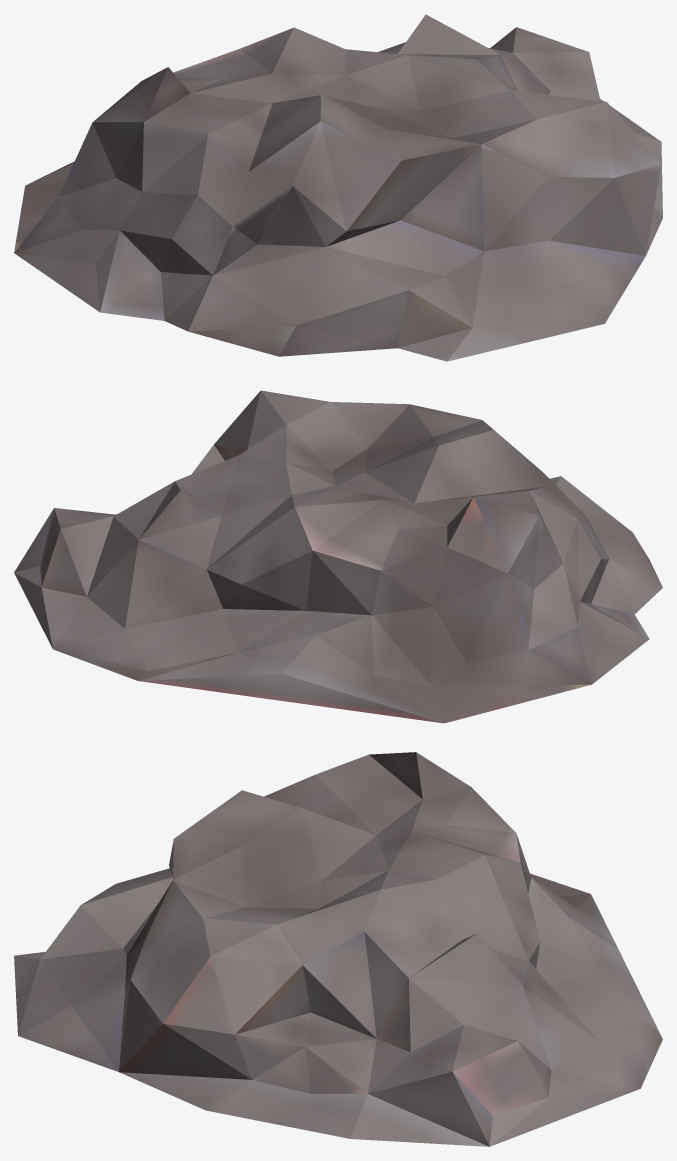
Rendered from Ash.fbx.
The picture shows the model from 3 angles, top to bottom: view 1: azimuth 30°, elevation 25°; view 2: azimuth 150°, elevation 25°; view 3: azimuth 270°, elevation 25°; orthographic projection. The views are drawn at different scales.
Visible parts, largest first — view 1: tomb_ash; view 2: tomb_ash; view 3: tomb_ash.
Boxes of the visible parts, x1,y1,x2,y2 form: tomb_ash: (14,14,662,361); tomb_ash: (14,390,662,723); tomb_ash: (14,752,662,1146).
Bounding box in the file's own units: 0.2579 × 0.0688 × 0.2396.
